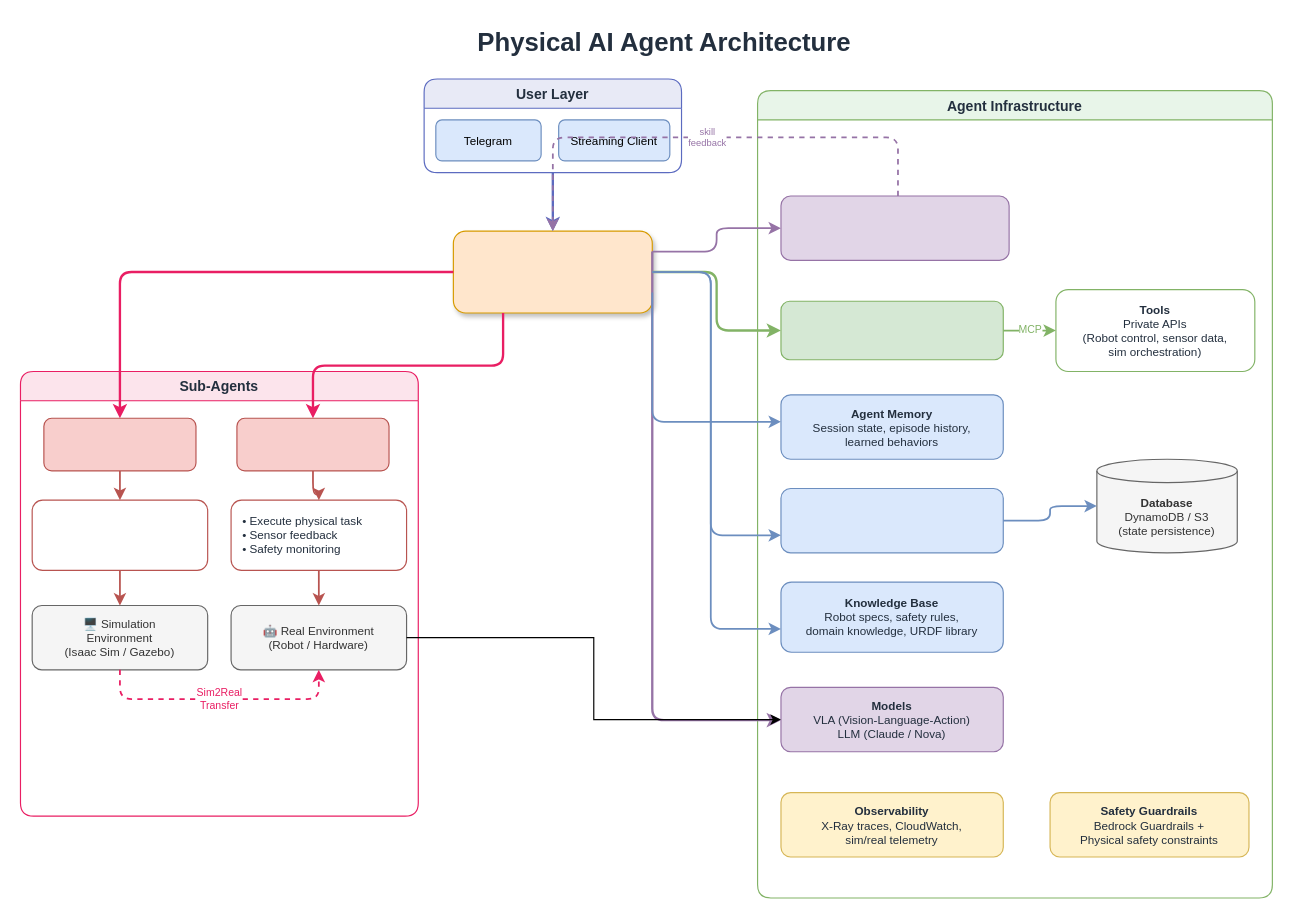
Some shapes in this 1293 by 918 pixel diagram are drawn without their labels. Each missing label, with the centre of its shape:
"AgentCore Gateway (MCP Tool Routing)" belongs at point 891,330.
"Context Management Task state, sensor fusion, environment awareness" belongs at point 891,520.
"Physical AI Agent (Orchestrator)" belongs at point 553,273.
"Real Sub-Agent" belongs at point 312,444.
"Sim Sub-Agent" belongs at point 119,444.
"Skills Open-source Physical AI (URDF gen, sim control, motion planning)" belongs at point 894,227.
"• Create URDF • Run simulation • Collect data & logs" belongs at point 119,534.
